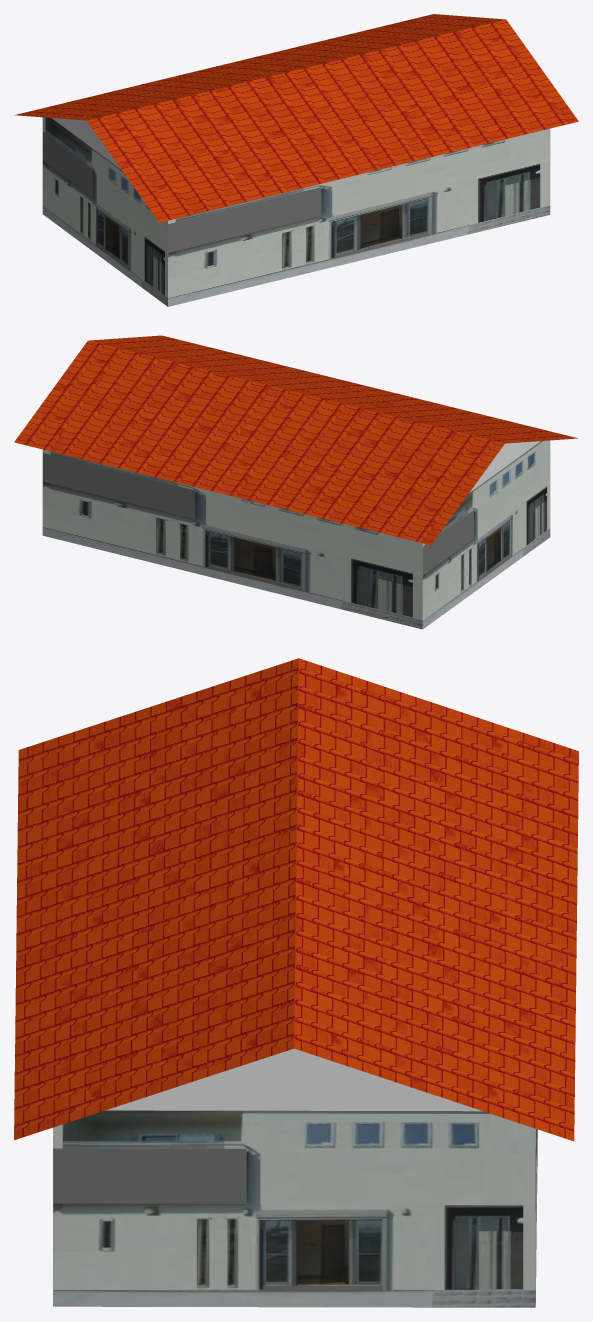
3 views of the same model, one above another, from view 1: azimuth 30°, elevation 25°; view 2: azimuth 150°, elevation 25°; view 3: azimuth 270°, elevation 25° (orthographic). The views are drawn at different scales.
Visible parts, largest first — view 1: CityEngineMaterial_12_m, CityEngineMaterial_11_m, CityEngineMaterial_3_m; view 2: CityEngineMaterial_12_m, CityEngineMaterial_11_m, CityEngineMaterial_3_m; view 3: CityEngineMaterial_12_m, CityEngineMaterial_11_m, CityEngineMaterial_3_m.
Boxes of the visible parts, x1,y1,x2,y2 form: CityEngineMaterial_12_m: [14, 14, 578, 222]; CityEngineMaterial_11_m: [42, 117, 550, 306]; CityEngineMaterial_3_m: [52, 118, 120, 168]; CityEngineMaterial_12_m: [14, 335, 578, 545]; CityEngineMaterial_11_m: [42, 440, 550, 629]; CityEngineMaterial_3_m: [469, 441, 540, 492]; CityEngineMaterial_12_m: [14, 658, 578, 1141]; CityEngineMaterial_11_m: [53, 1110, 537, 1307]; CityEngineMaterial_3_m: [106, 1048, 482, 1111].
Bounding box in the file's own units: 22.49 × 7.39 × 13.72.
